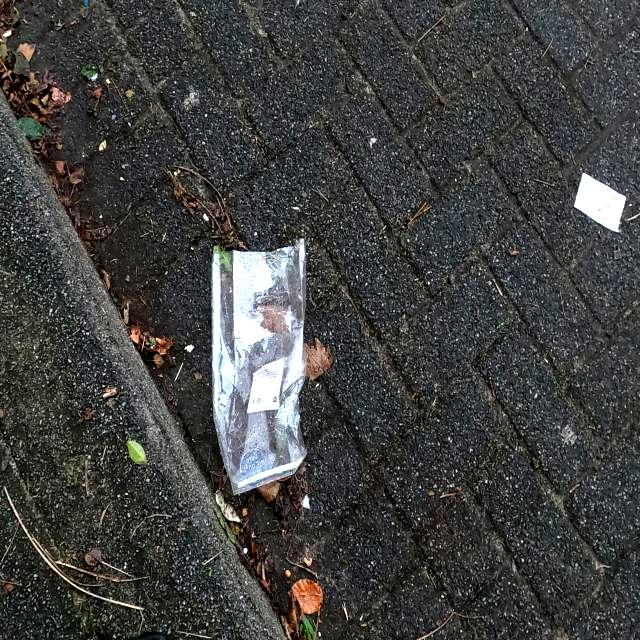Paper: (572, 170, 626, 233)
